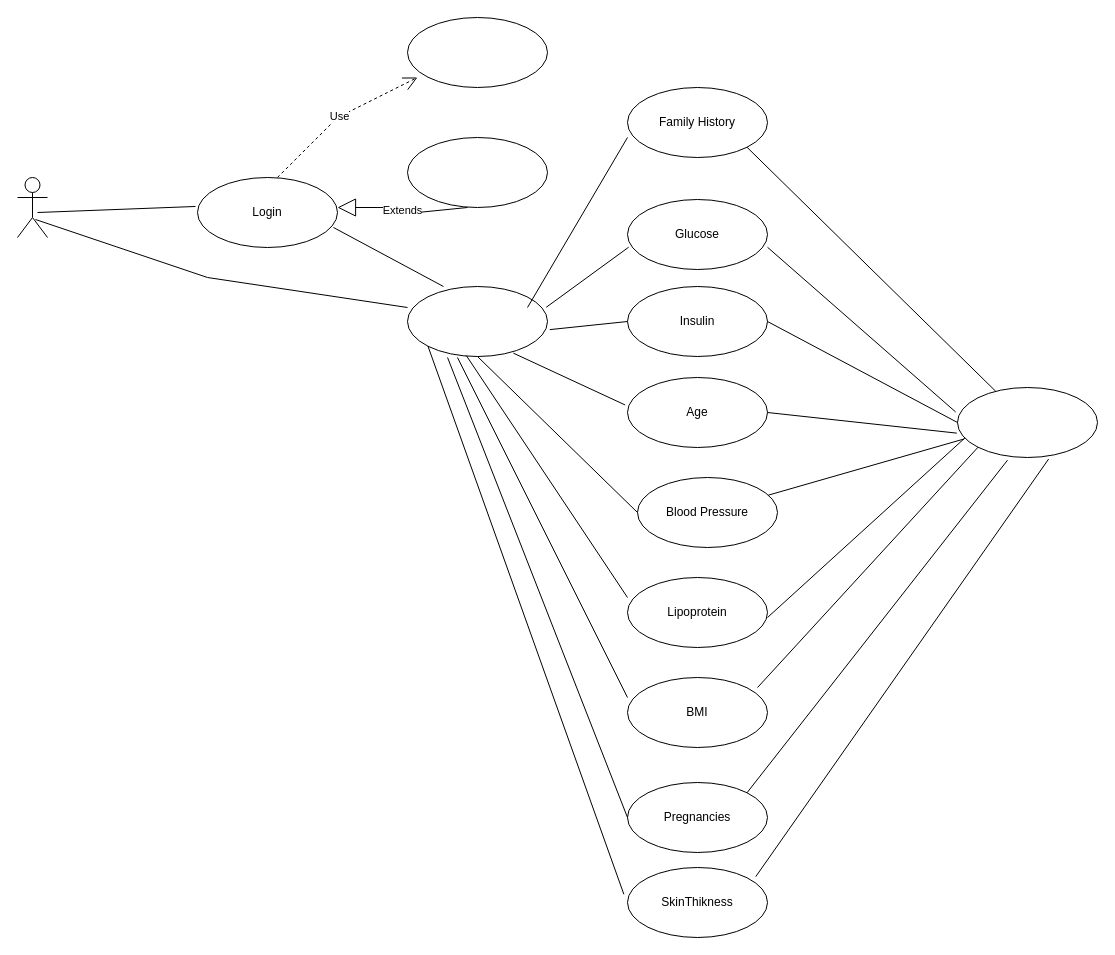
This 1115x955 diagram has some shape labels left out. Here are the shapes that lost their labels. From the top down, the centre of each, then its label:
the point at 477,52: Verify Password
the point at 477,172: Display Login Error
the point at 32,207: Actor
the point at 477,321: Main Page
the point at 1027,422: Prediction Result
